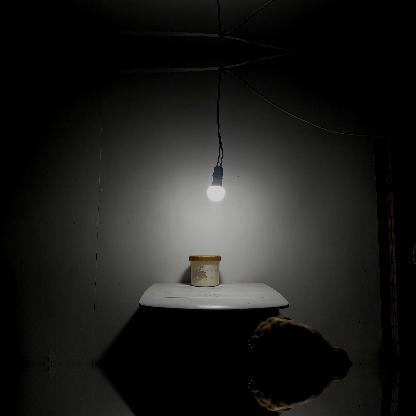Lady-s-Choice: (189, 254, 221, 286)
